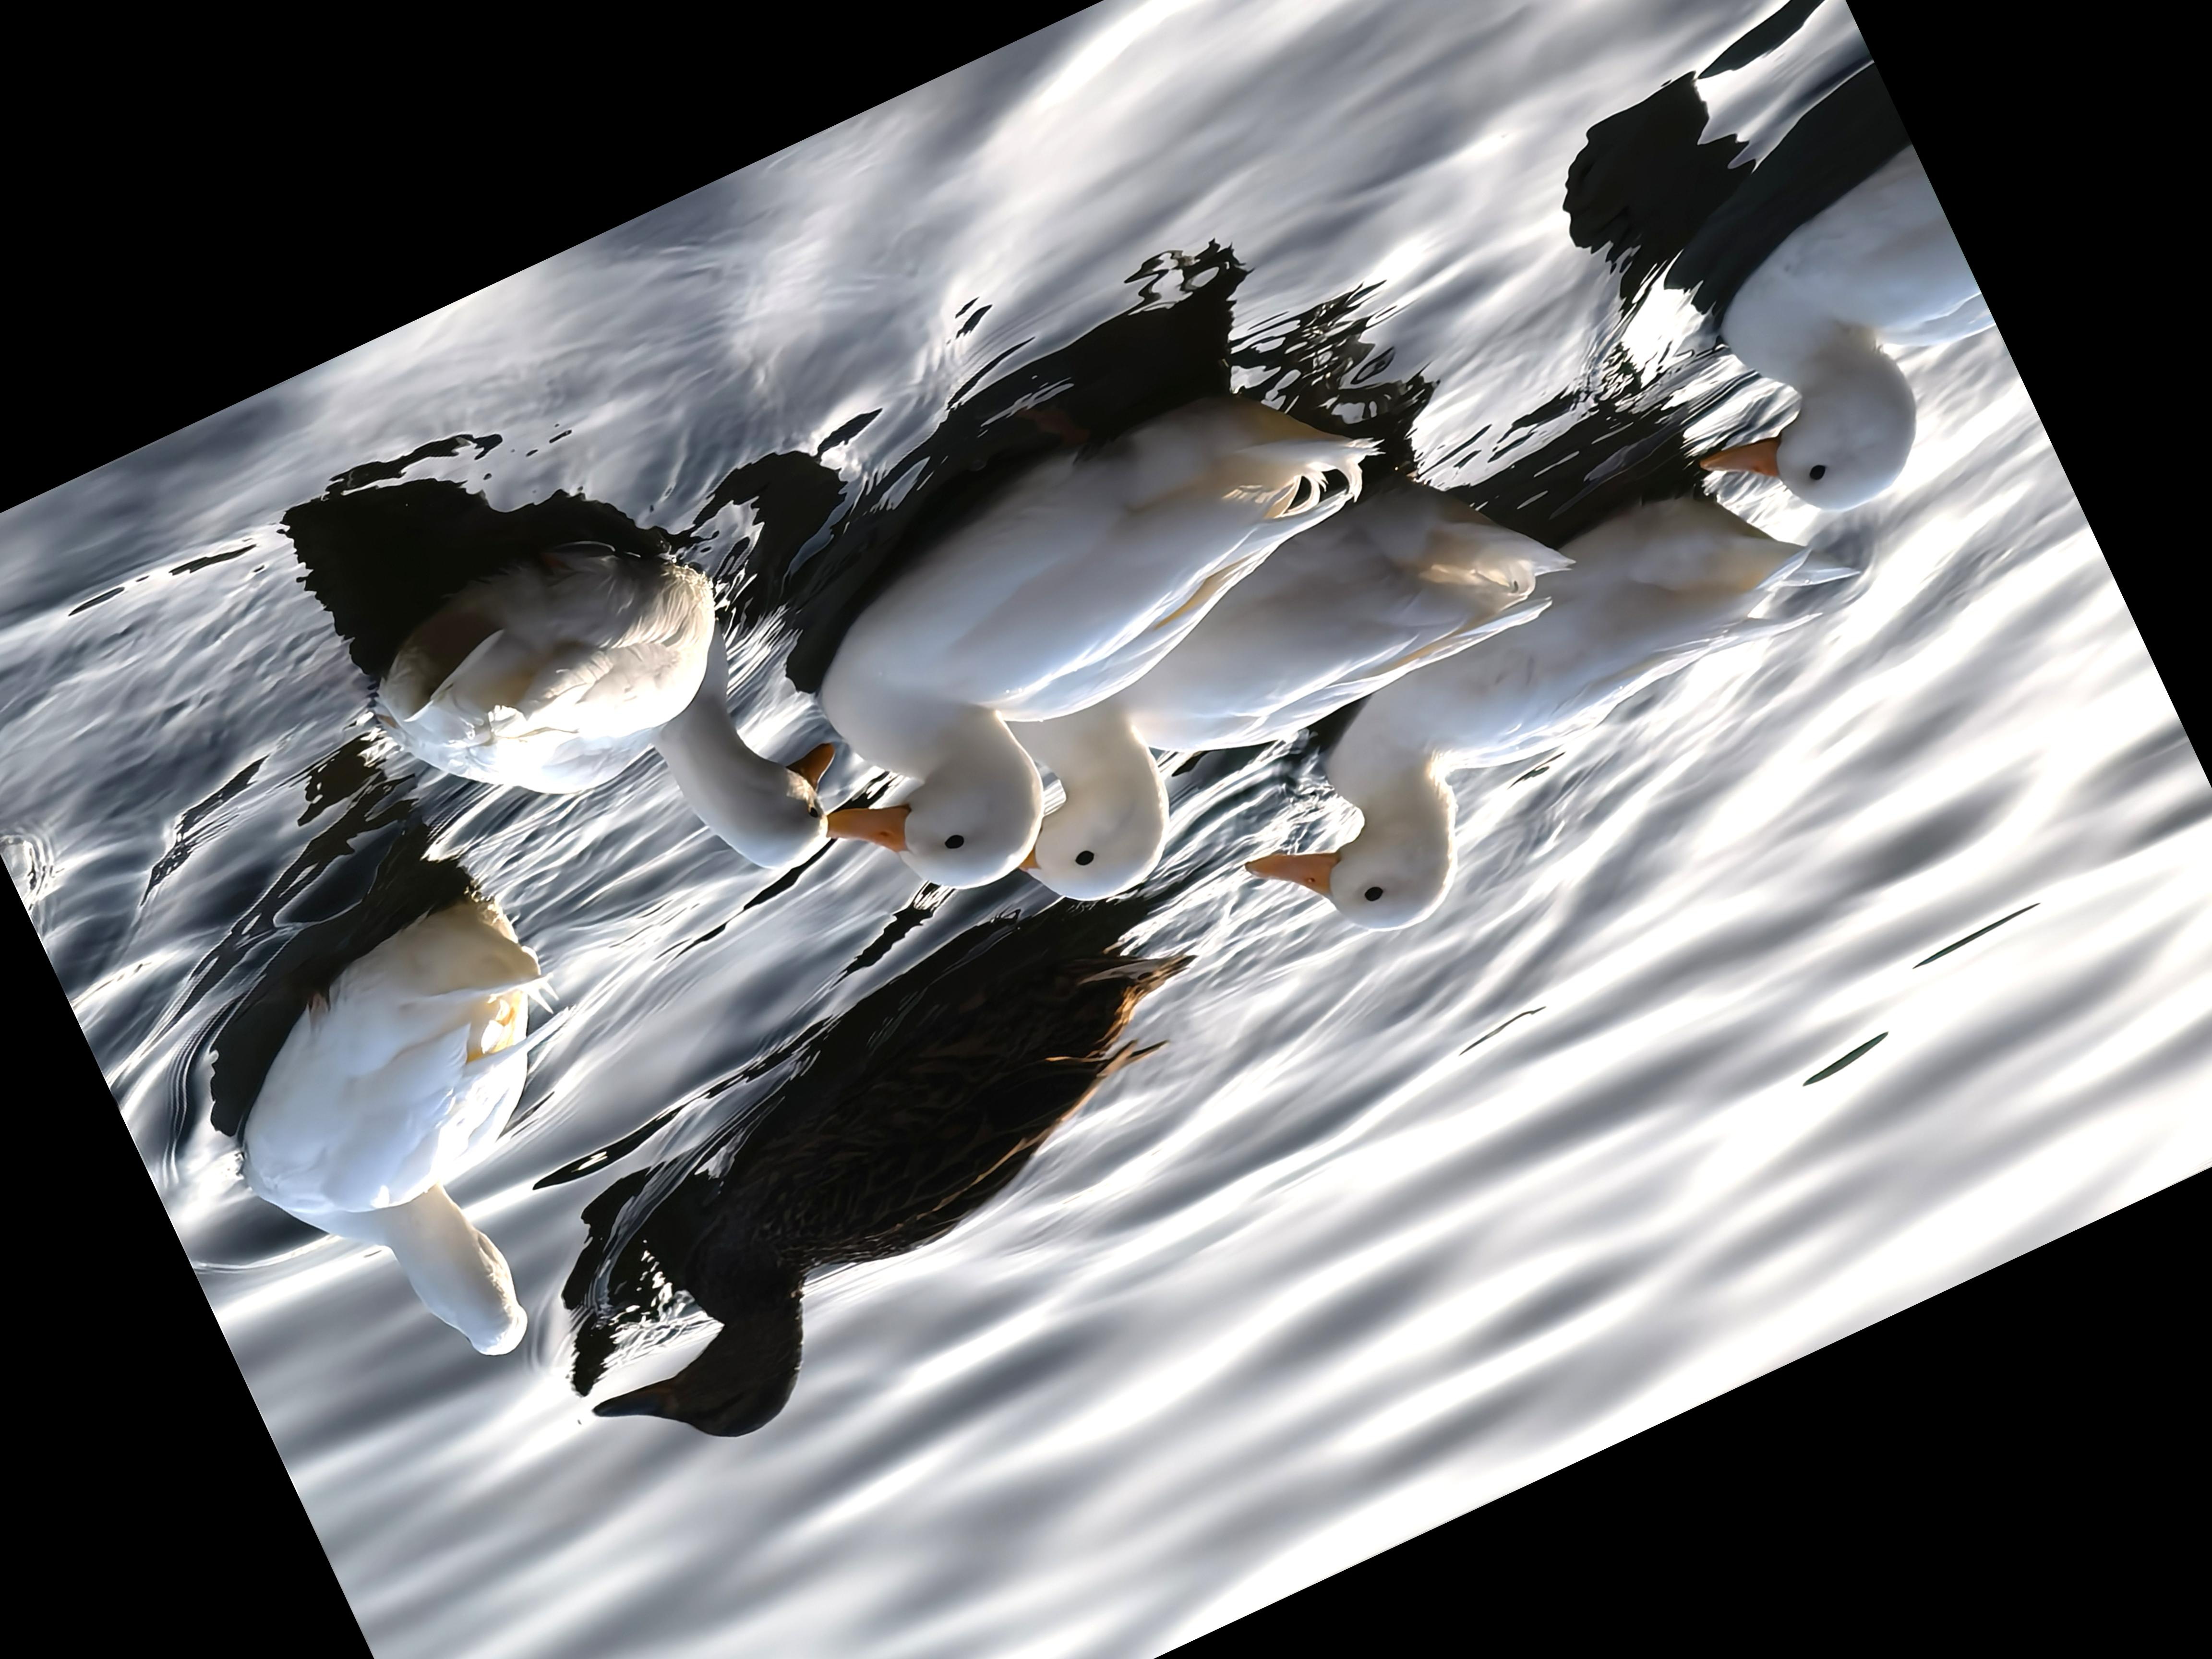duck: (681, 298, 1496, 965), (449, 892, 1275, 1521), (1136, 436, 1895, 1014), (902, 420, 1618, 945), (153, 842, 726, 1443), (301, 434, 862, 1011), (1609, 143, 2052, 584)
